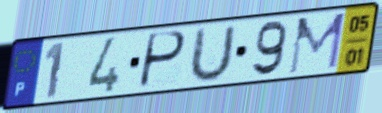1: (42, 39, 67, 102)
4: (85, 34, 123, 96)
9: (249, 19, 290, 78)
M: (286, 10, 349, 77)
P: (135, 29, 188, 91)
U: (185, 22, 239, 86)
